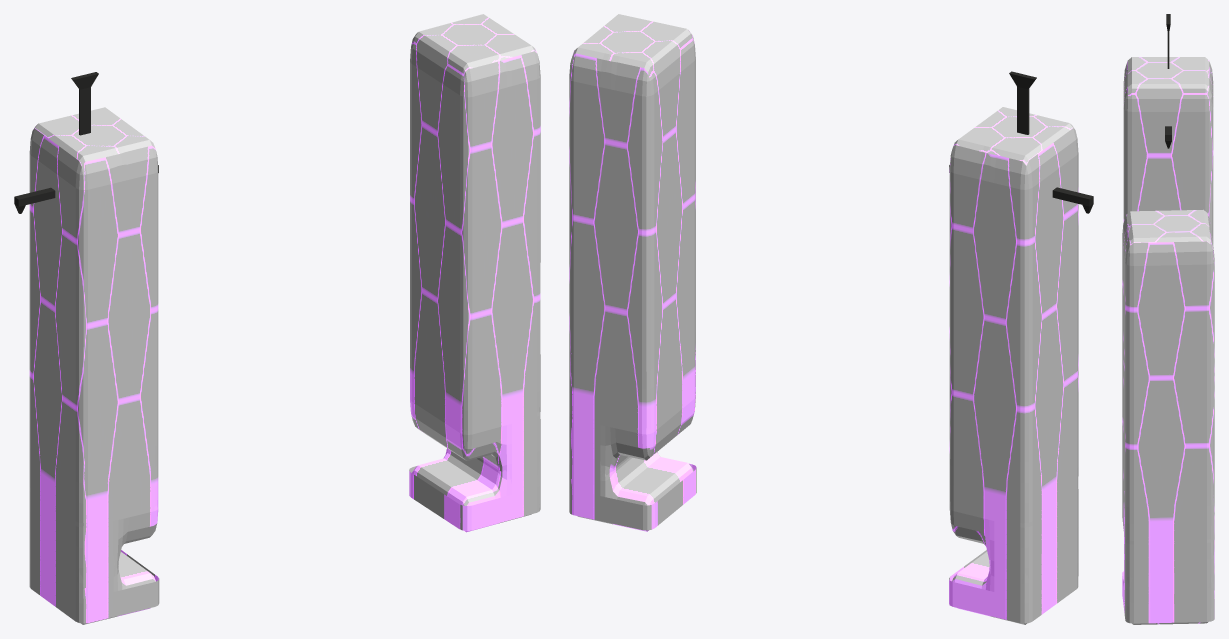
File: arms.fbx
3 views of the same model, side by side, from view 1: azimuth 30°, elevation 25°; view 2: azimuth 150°, elevation 25°; view 3: azimuth 270°, elevation 25° (orthographic). The views are drawn at different scales.
Visible parts, largest first — view 1: Cube.002, Cube.001, Cube; view 2: Cube.001, Cube.002, Cube; view 3: Cube.002, Cube.001, Cube.
Part boxes in pixels (<box>): Cube.002: <box>409,14,540,532</box>; Cube.001: <box>29,107,159,624</box>; Cube: <box>14,72,158,213</box>; Cube.001: <box>949,107,1078,624</box>; Cube.002: <box>569,14,696,531</box>; Cube: <box>949,71,1093,213</box>; Cube.002: <box>1122,209,1214,624</box>; Cube.001: <box>1123,57,1213,243</box>; Cube: <box>1165,14,1171,148</box>.
Bounding box in the file's own units: 469 × 471 × 91.07.
